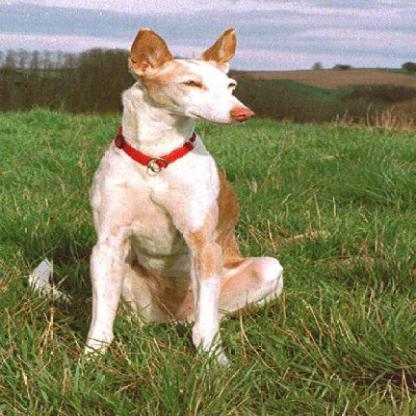dog: (79, 15, 291, 372)
